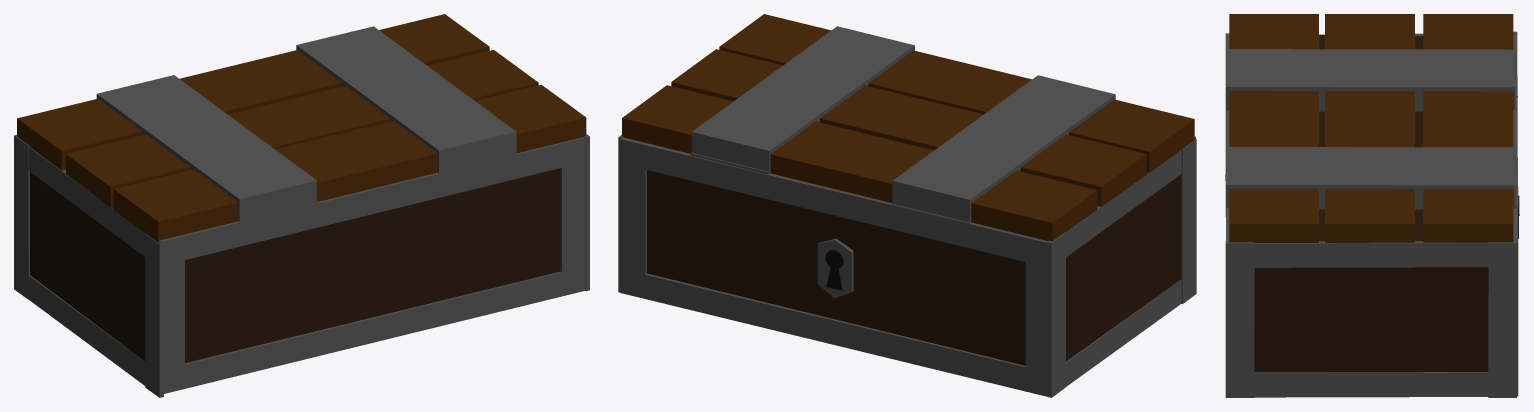
The model's file is schatkist.fbx.
The picture shows the model from 3 angles, left to right: view 1: azimuth 30°, elevation 25°; view 2: azimuth 150°, elevation 25°; view 3: azimuth 270°, elevation 25°; orthographic projection.
Visible parts, largest first — view 1: pCube29; view 2: pCube29; view 3: pCube29.
Part boxes in pixels (x1=…): pCube29: x1=14, y1=14, x2=589, y2=397; pCube29: x1=618, y1=14, x2=1196, y2=397; pCube29: x1=1225, y1=14, x2=1519, y2=397.
Bounding box in the file's own units: 5.33 × 2.12 × 3.13.
